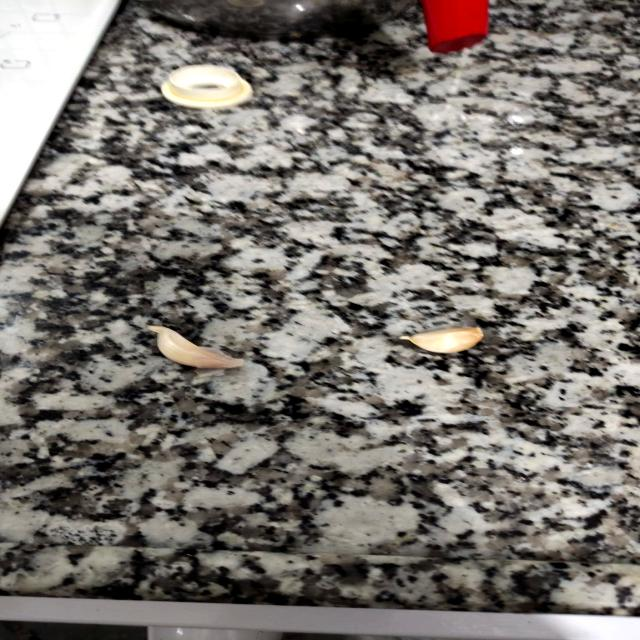garlic: (132, 318, 264, 379), (380, 308, 514, 364)
